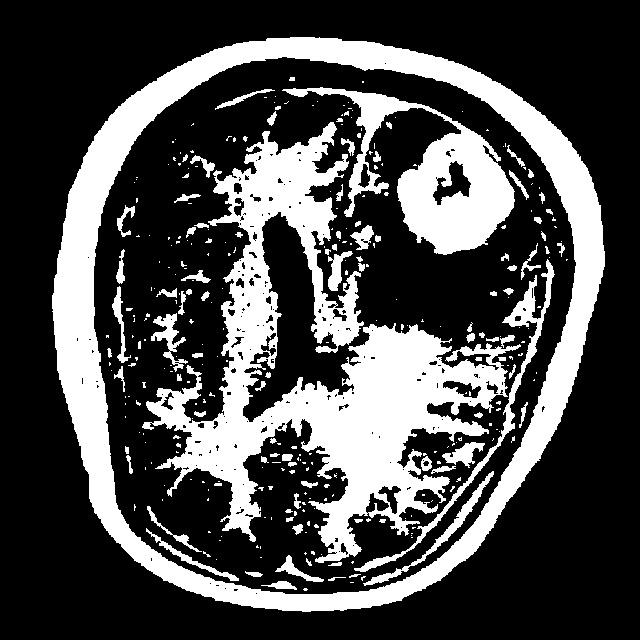Brain-Tumor: (388, 115, 528, 272)
